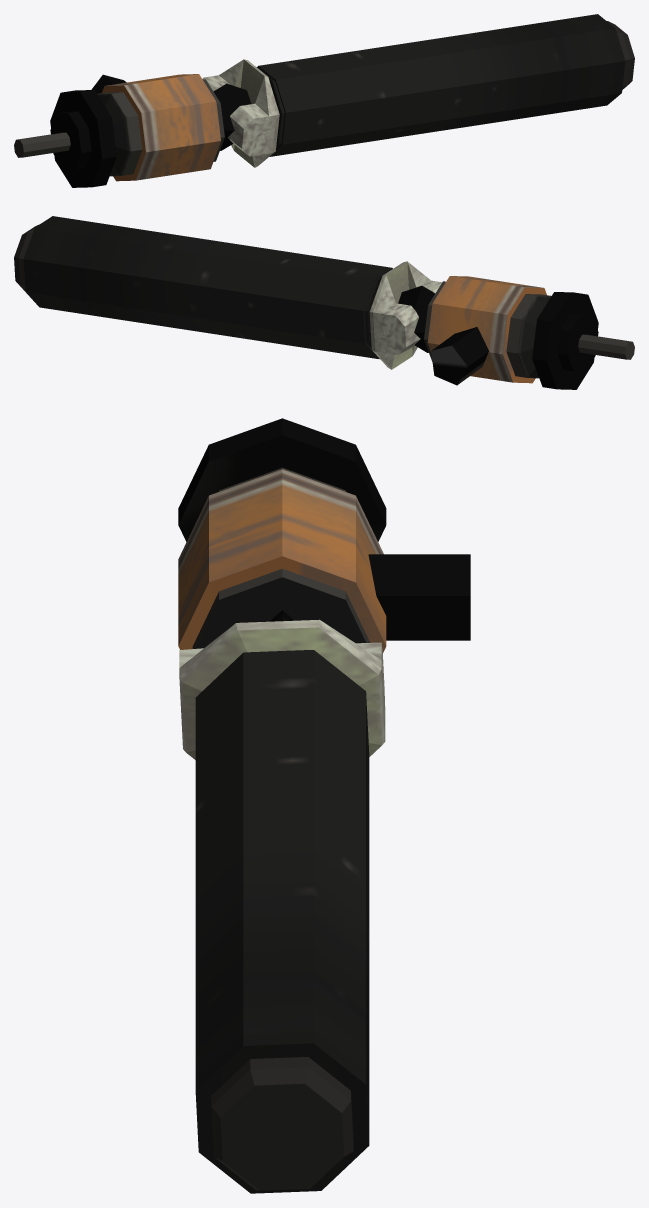
File: CameraArm.fbx
3 renders of one model, top to bottom at view 1: azimuth 30°, elevation 25°; view 2: azimuth 150°, elevation 25°; view 3: azimuth 270°, elevation 25°, orthographic. The views are drawn at different scales.
Parts seen in each view (by area): view 1: CamBody; view 2: CamBody; view 3: CamBody.
Boxes of the visible parts, bbox=[...] form: CamBody: bbox=[14, 14, 634, 187]; CamBody: bbox=[14, 216, 634, 389]; CamBody: bbox=[178, 418, 470, 1193].
Bounding box in the file's own units: 40.73 × 8.67 × 8.55.
